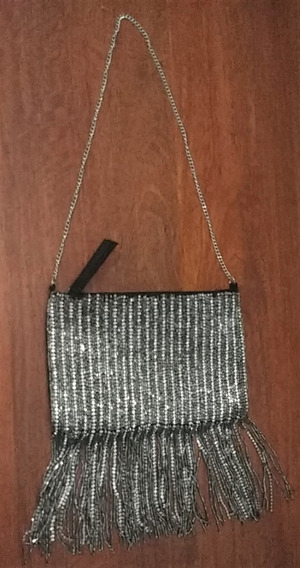cartera: (45, 13, 251, 436)
